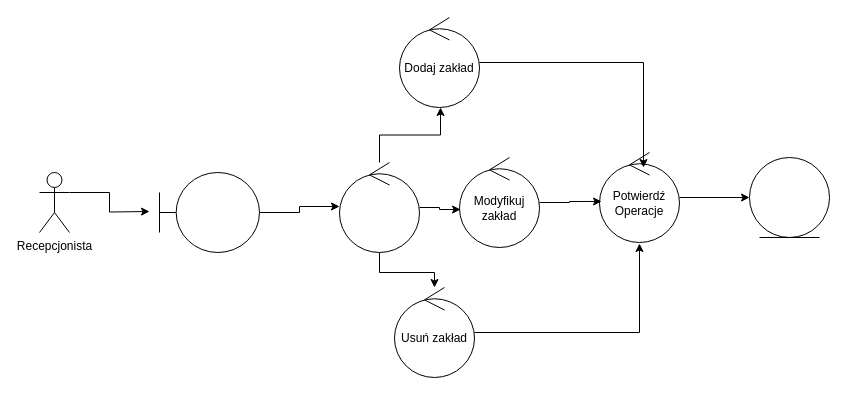
Some shapes in this 847 by 395 pixel diagram are drawn without their labels. The shapes that lost their labels are listed below. From the top down, each one's centre as x and y in pixels, then its label:
At point (209, 212): "Formularz Logowania".
At point (379, 207): "Zarządzanie Zakładami".
At point (789, 197): "Baza Danych".
